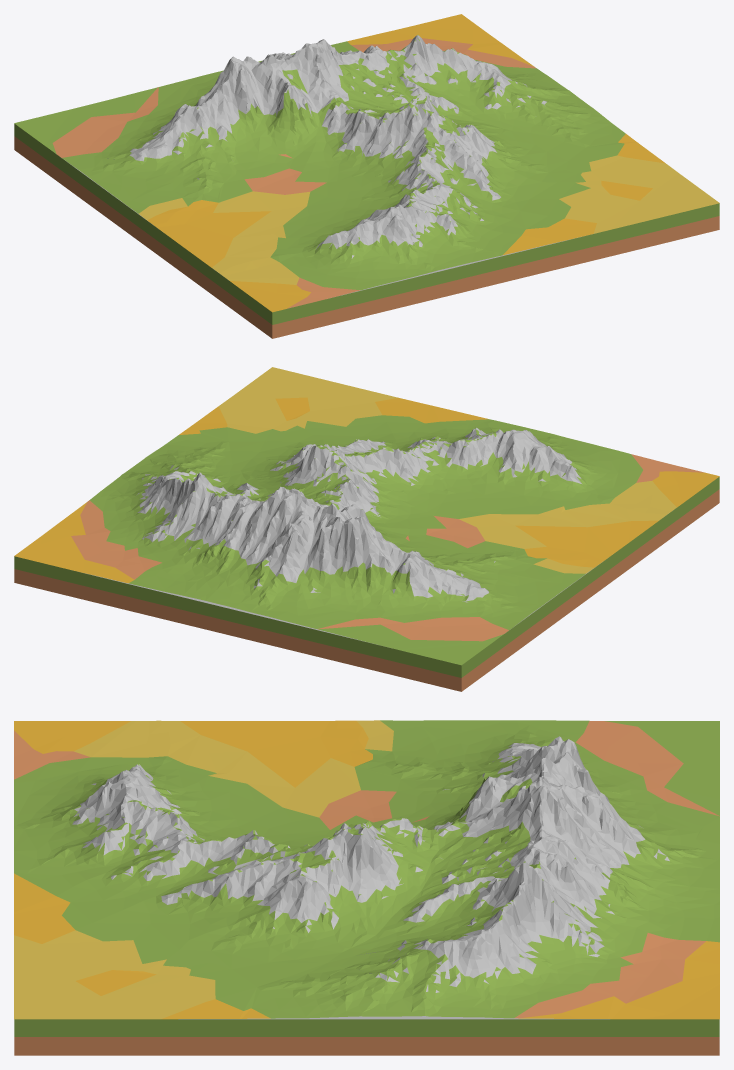
Rendered from finalmap.fbx.
3 renders of one model, top to bottom at view 1: azimuth 30°, elevation 25°; view 2: azimuth 150°, elevation 25°; view 3: azimuth 270°, elevation 25°, orthographic. The views are drawn at different scales.
Visible parts, largest first — view 1: Cube; view 2: Cube; view 3: Cube.
Boxes of the visible parts, left/top/right/bottom form: Cube: left=14, top=14, right=719, bottom=338; Cube: left=14, top=367, right=719, bottom=691; Cube: left=14, top=720, right=719, bottom=1055.
Bounding box in the file's own units: 674 × 141 × 674.
